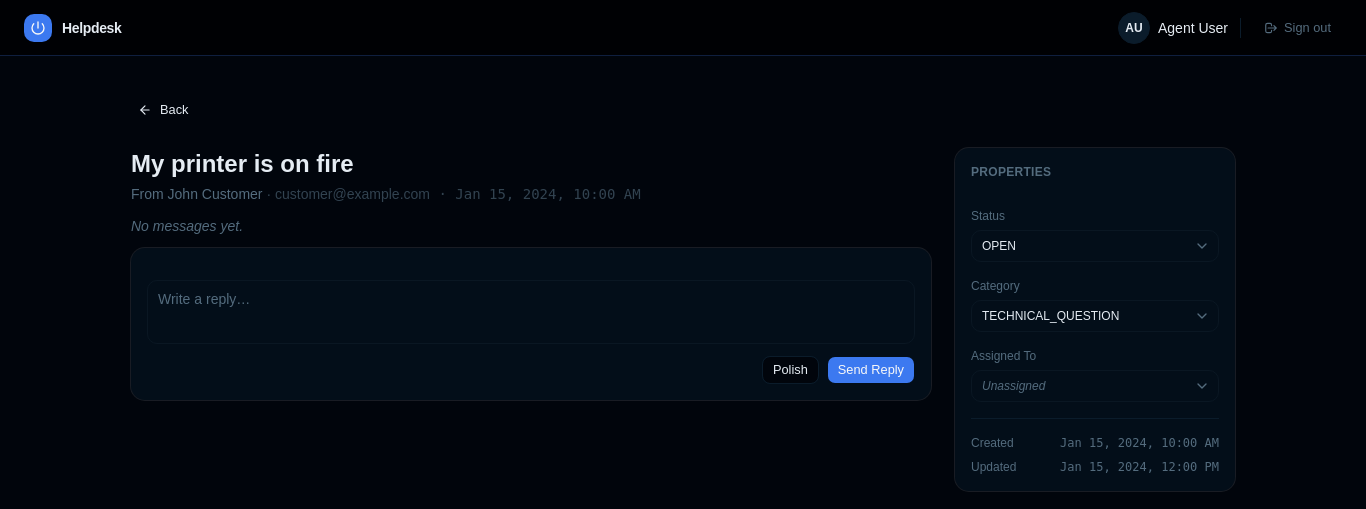
Scenario: TicketDetailPage › assignment › shows "Unassigned" as the selected option when no agent is assigned
Expected: the heading "My printer is on fire" is shown, [131, 150, 354, 177]
What coordinates should you click on to do the following:
click the dropdown named "Assigned To"
I would click on:
 (1095, 386)
Its box is [971, 370, 1219, 402].
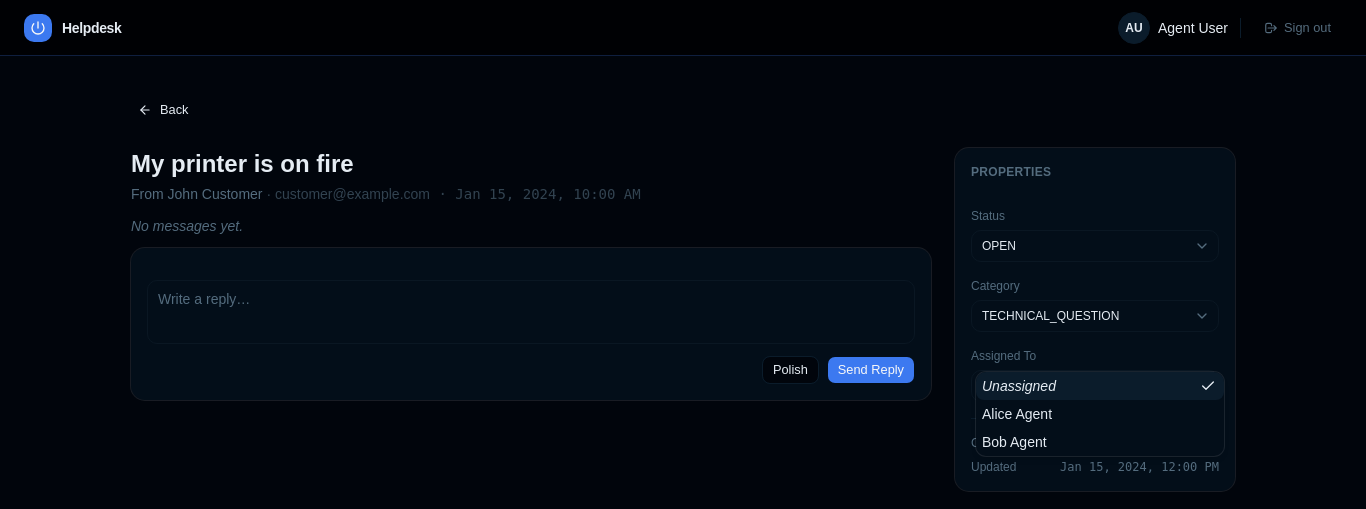
Expected: the option "Unassigned" is shown, [976, 372, 1224, 400]
